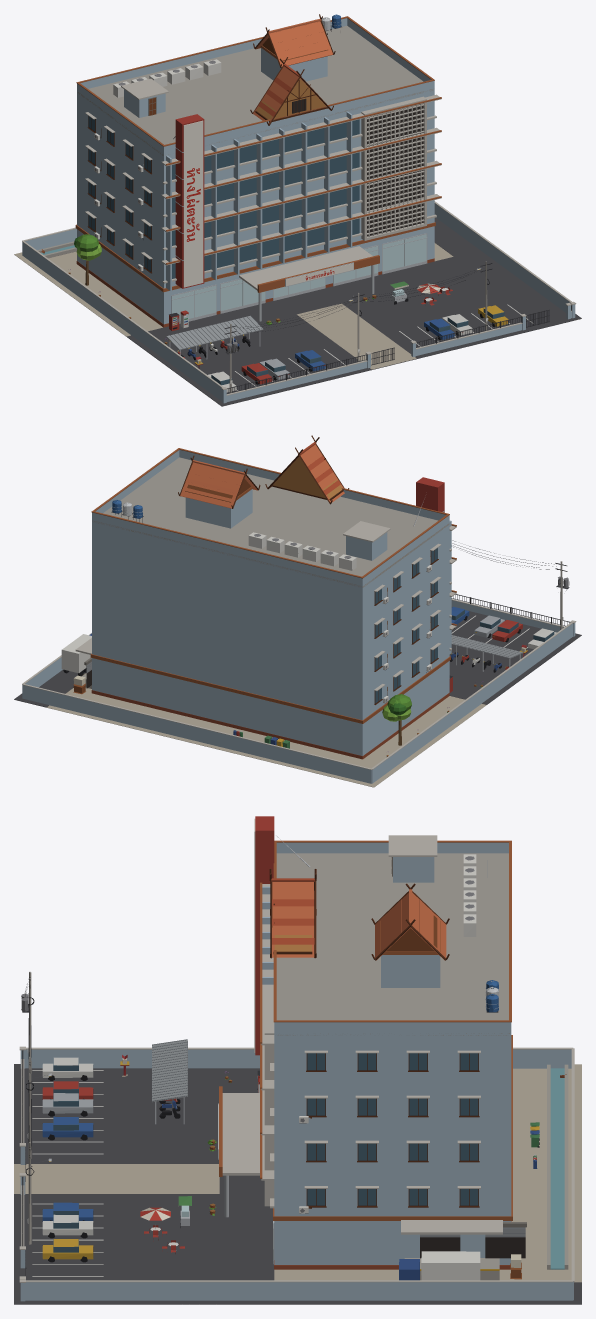
Rendered from store.glb.
3 views of the same model, one above another, from view 1: azimuth 30°, elevation 25°; view 2: azimuth 150°, elevation 25°; view 3: azimuth 270°, elevation 25° (orthographic). The views are drawn at different scales.
Parts seen in each view (by area): view 1: body, windows; view 2: body, windows; view 3: body, windows.
Part boxes in pixels (box(x1,y1,x2,y2)): body: box(14, 14, 581, 406); windows: box(88, 98, 507, 385); body: box(14, 435, 581, 787); windows: box(86, 548, 554, 703); body: box(14, 816, 581, 1304); windows: box(49, 818, 525, 1258).
Bounding box in the file's own units: 47.9 × 29.1 × 47.9.
